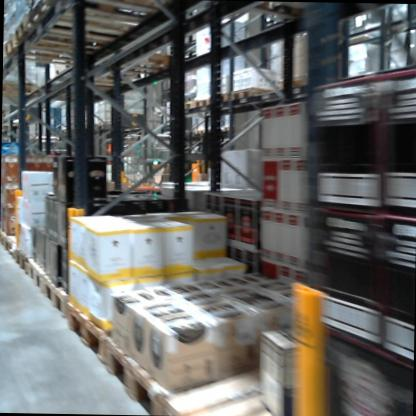pallet: (101, 304, 311, 412), (57, 297, 212, 389), (157, 352, 303, 416), (13, 16, 116, 56), (4, 34, 112, 72), (30, 0, 165, 26), (103, 45, 187, 77), (40, 271, 75, 324), (80, 64, 142, 93), (22, 254, 49, 292), (231, 84, 279, 104), (2, 81, 43, 103), (12, 241, 31, 274), (4, 234, 25, 259), (173, 95, 195, 116), (192, 95, 212, 113), (212, 93, 232, 110), (0, 225, 8, 248)
